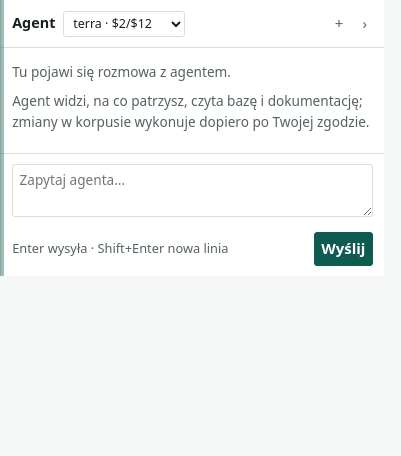
Test: panel na żywo › zgoda: karta z podglądem, „Wykonaj” wysyła decyzję i wznawia odpowiedź
In the text box named "Wiadomość do agenta": (192, 190) top-left (12, 164), bottom-right (373, 217), type "zatwierdź"
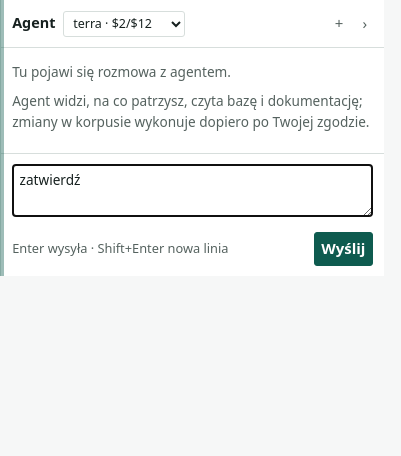
Click the button "Wyślij": (343, 249) top-left (314, 232), bottom-right (373, 266)
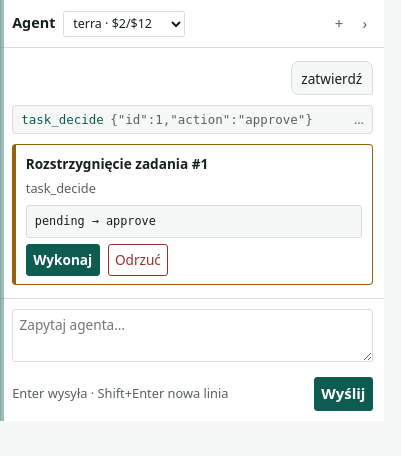
expect the button "Wyślij" is shown: met, box top-left (314, 377), bottom-right (373, 411)
expect the text "pending → approve" is shown: met, box top-left (26, 205), bottom-right (362, 238)
Click the button "Wykonaj": (63, 260) top-left (26, 244), bottom-right (100, 276)
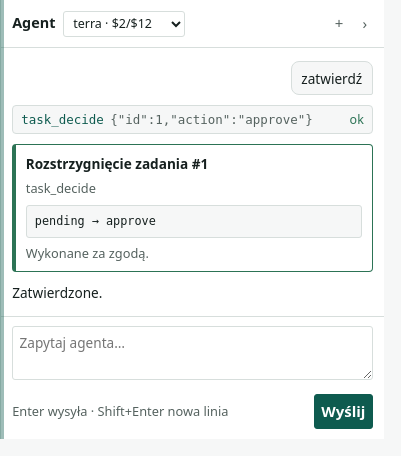
expect the text "Zatwierdzone." is shown: met, box top-left (12, 283), bottom-right (102, 302)
expect the text "Wykonane za zgodą." is shown: met, box top-left (26, 244), bottom-right (149, 262)
